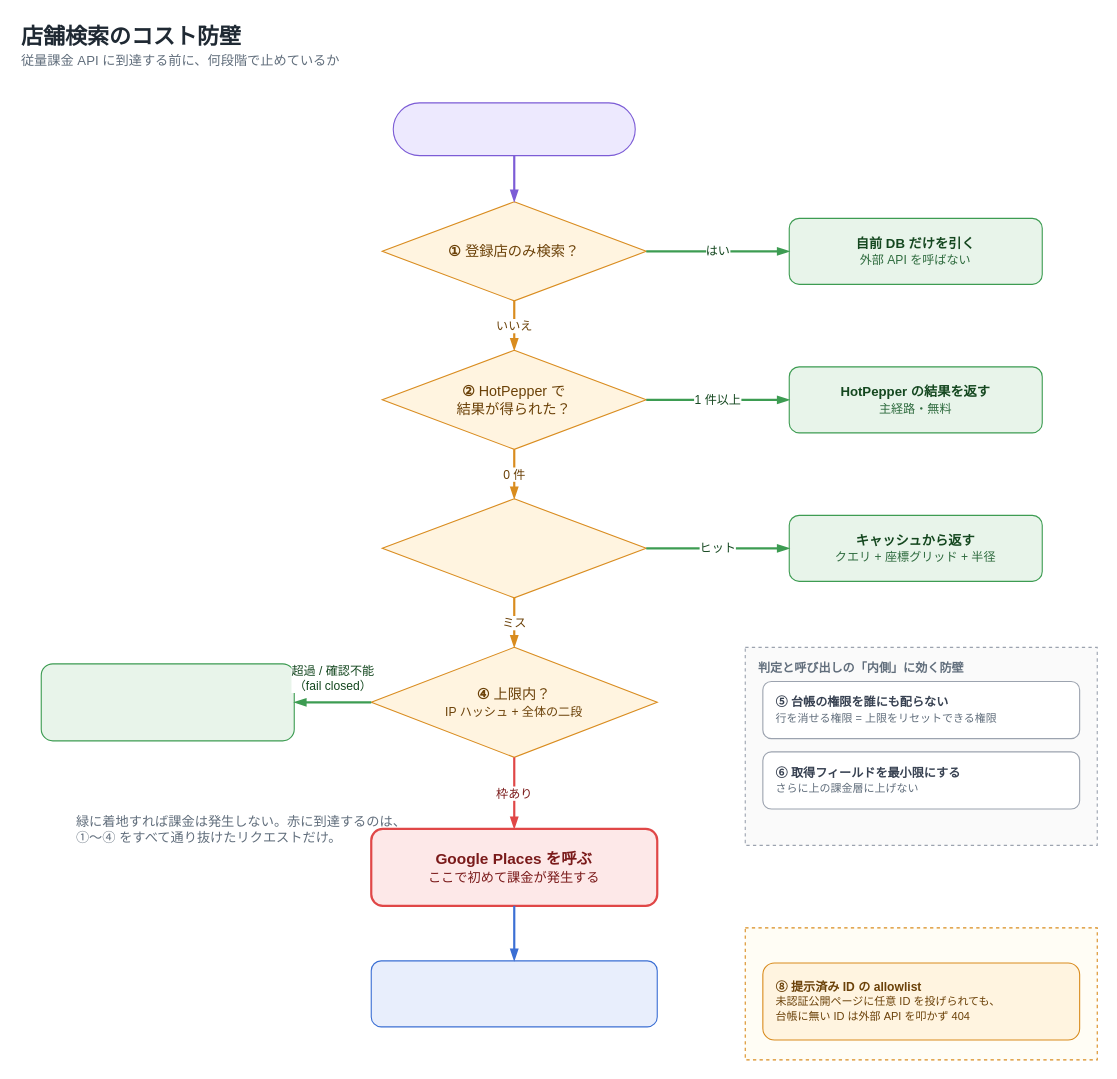
Some shapes in this 1117 by 1079 pixel diagram are drawn without their labels. Each missing label, with the box of its shape:
Places を呼ばず HotPepper の結果を返す 黙って縮退する: (40, 663, 294, 741)
③ キャッシュに ヒットした？: (381, 498, 646, 598)
⑦ サーバー側で回数を記録 課金対象と 1 対 1 で対応させる: (370, 960, 657, 1027)
店舗検索リクエスト: (392, 102, 635, 156)
店舗詳細の取得（別経路・別 SKU）: (744, 927, 1097, 1060)
